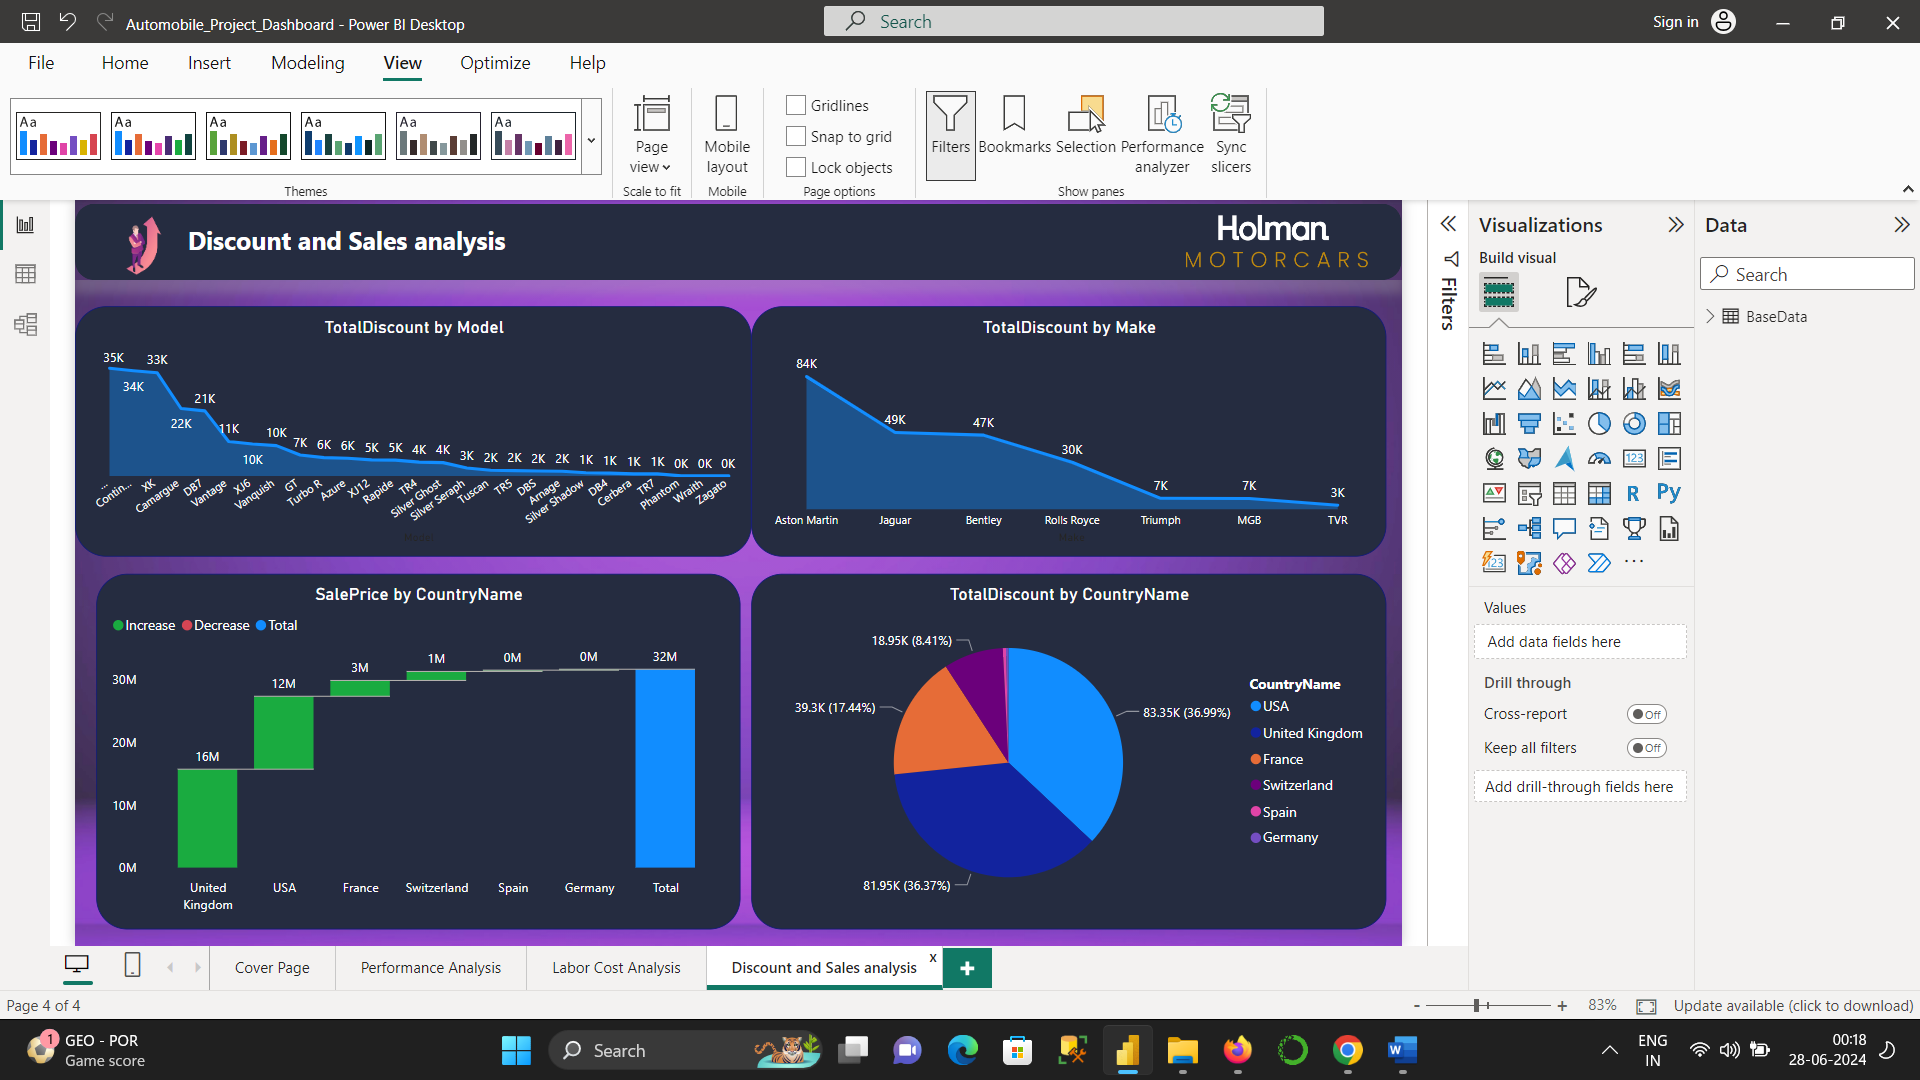

This screenshot's page, from the dashboard's own definition file:
{"tool":"powerbi","page":{"name":"Discount and Sales analysis","canvas":[1280,720],"ordinal":3},"visuals":[{"type":"waterfallChart","fields":{"Y":["Sum(BaseData.SalePrice)"],"Category":["BaseData.CountryName"]},"box":[20,360,621.4,342.9],"z":0},{"type":"pieChart","fields":{"Category":["BaseData.CountryName"],"Y":["Sum(BaseData.TotalDiscount)"]},"box":[652.9,360,612.9,342.9],"z":1000},{"type":"areaChart","fields":{"Y":["Sum(BaseData.TotalDiscount)"],"Category":["BaseData.Make"]},"box":[652.9,102.9,612.9,241.4],"z":2000},{"type":"shape","box":[0,3.8,1280,73.8],"z":3000},{"type":"textbox","box":[103.3,18.3,365,58.3],"z":4000},{"type":"image","box":[1064.3,10,191.4,60],"z":5000},{"type":"image","box":[10,0,112.9,84.3],"z":6000},{"type":"areaChart","fields":{"Category":["BaseData.Model"],"Y":["Sum(BaseData.TotalDiscount)"]},"box":[0,102.9,652.9,241.4],"z":7000}]}

Visuals, with their boxes on the page's 1280x720 design canvas (x1, y1, x2, y2). These are canvas units, not pixel positions in the 1920x1080 screenshot, which may show the page scaled, cropped or inside an application window:
waterfallChart - Sum(BaseData.SalePrice) x BaseData.CountryName: l=20, t=360, r=641, b=703
pieChart - BaseData.CountryName x Sum(BaseData.TotalDiscount): l=653, t=360, r=1266, b=703
areaChart - Sum(BaseData.TotalDiscount) x BaseData.Make: l=653, t=103, r=1266, b=344
shape: l=0, t=4, r=1280, b=78
textbox: l=103, t=18, r=468, b=77
image: l=1064, t=10, r=1256, b=70
image: l=10, t=0, r=123, b=84
areaChart - BaseData.Model x Sum(BaseData.TotalDiscount): l=0, t=103, r=653, b=344
